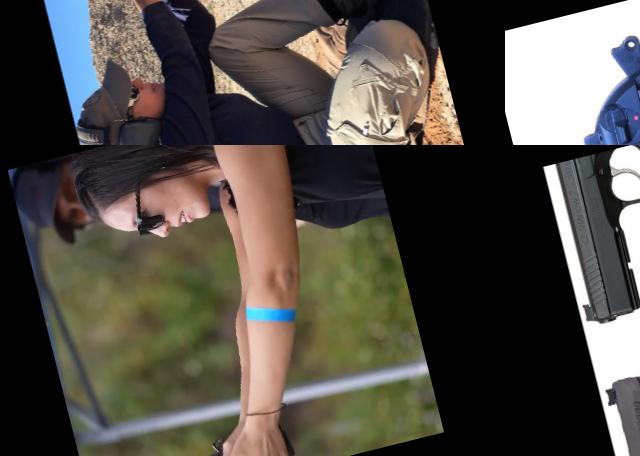handgun: (543, 145, 640, 328), (555, 0, 640, 145), (189, 412, 300, 456), (76, 0, 153, 44)
